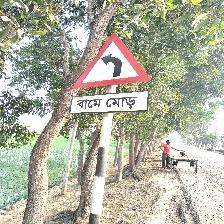Left-Turn: (70, 33, 153, 114)
